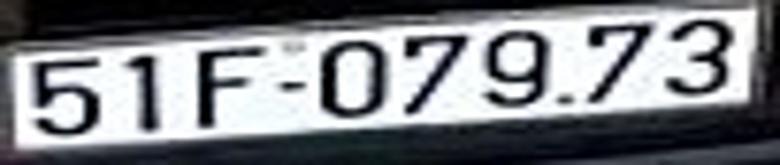-: (277, 75, 313, 100)
.: (556, 85, 576, 112)
0: (319, 39, 388, 120)
1: (124, 51, 168, 133)
3: (669, 18, 733, 102)
5: (26, 57, 106, 140)
7: (401, 32, 468, 122), (587, 21, 651, 104)
9: (481, 24, 546, 111)
F: (192, 44, 265, 126)
